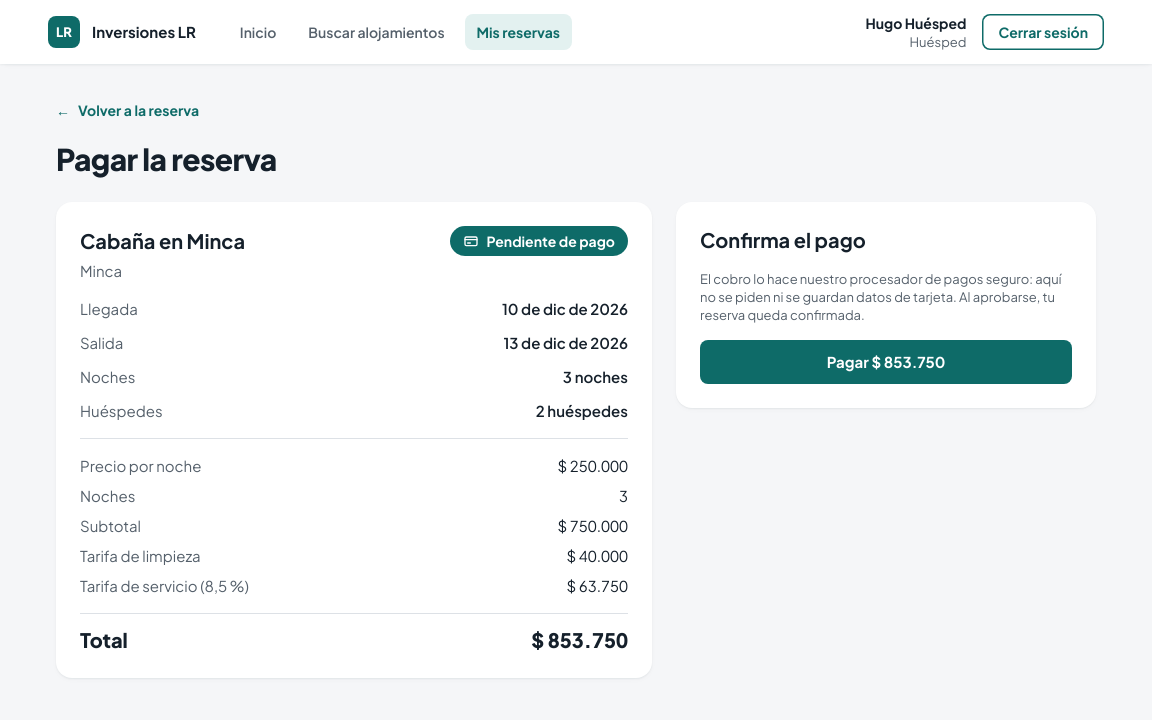
pago de la reserva › desenlaces › 402: dice que el pago falló, que las fechas ya no están retenidas e invita a buscar de nuevo
Expected: the heading "Cabaña en Minca" is shown, [80,227,245,255]
Click the button "Pagar $ 853.750" at (886, 362), box [700,340,1072,384]
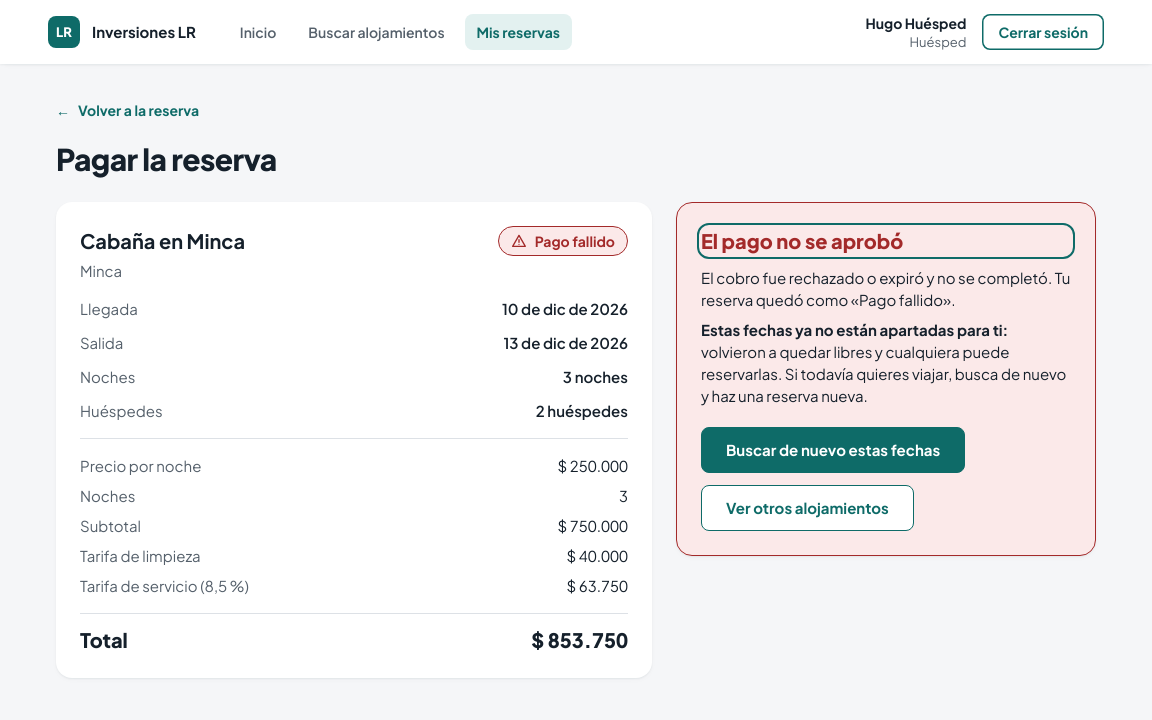
Expected: the message shows "«Pago fallido»", [701,268,1070,309]
Expected: the message shows "Estas fechas ya no están apartadas para ti", [701,320,1008,339]
Expected: the text "Pago fallido" is shown, [498,226,628,256]
